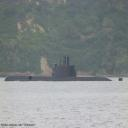submarine: (6, 58, 124, 82)
